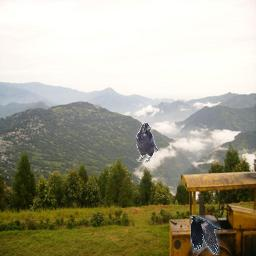Crow: (190, 215, 221, 255), (136, 122, 158, 162)
